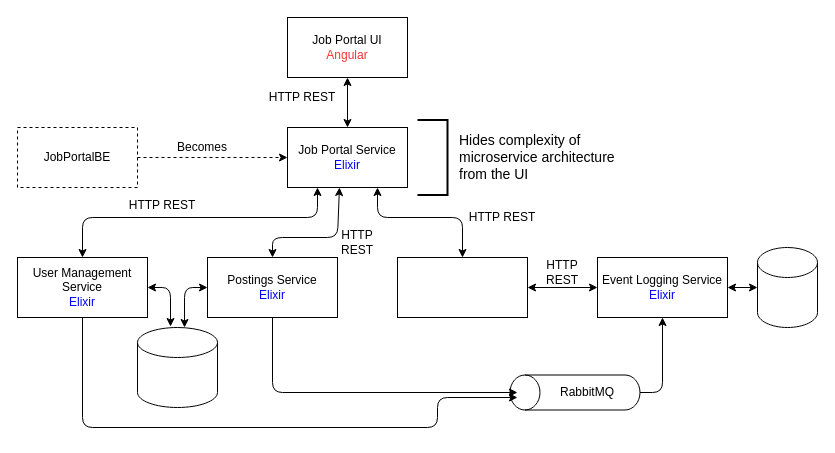
Some shapes in this 835 by 453 pixel diagram are drawn without their labels. Here are the shapes that lost their labels. From the top down, the centre of each, then its label:
At [462,287]: "Statistics Service Elixir".
At [787,287]: "Event DB mongoDB".
At [177,367]: "JobPortalDB Postgres".
